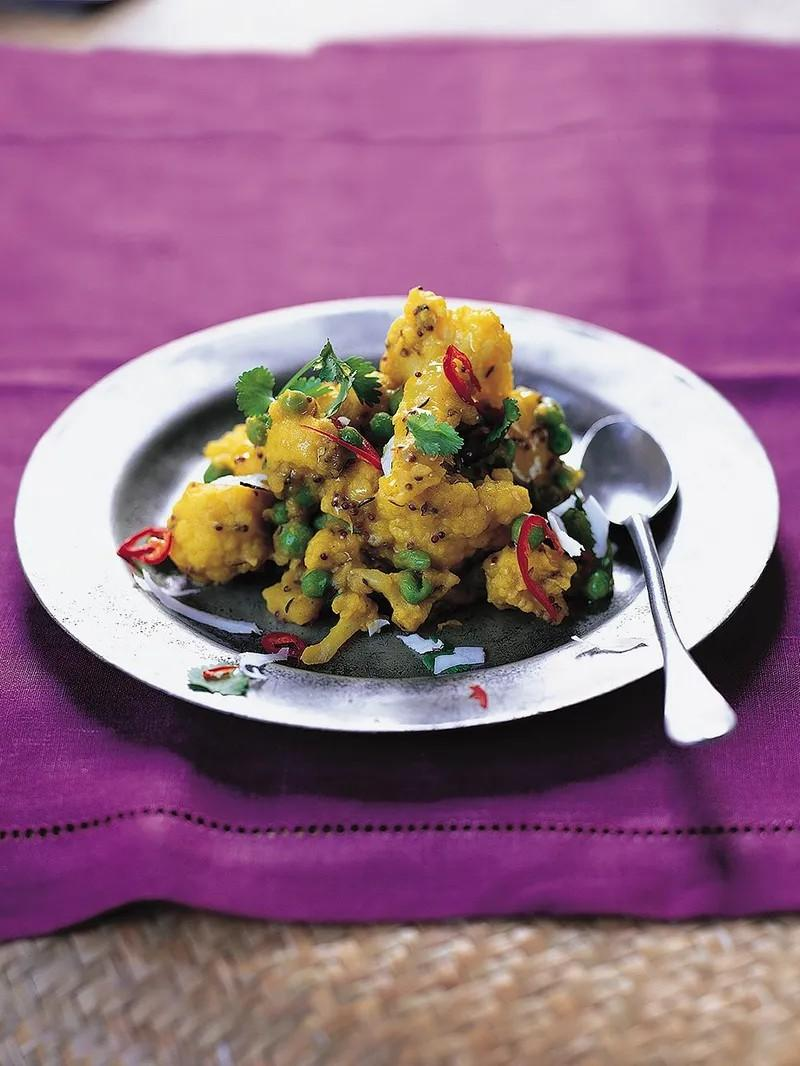AlooGobi: (164, 281, 584, 665)
